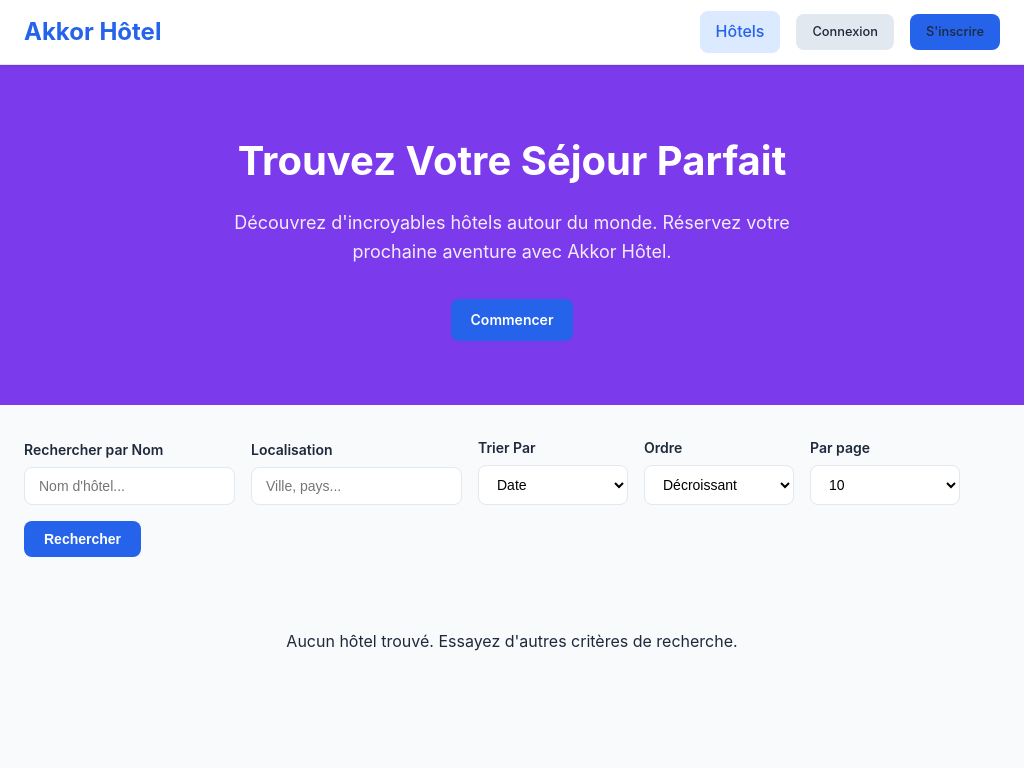
Test case: Flux d'inscription et de connexion utilisateur › devrait naviguer vers la page de connexion
Step 1. Click the link "Connexion" → point(846, 33), box [797,14,895,51]
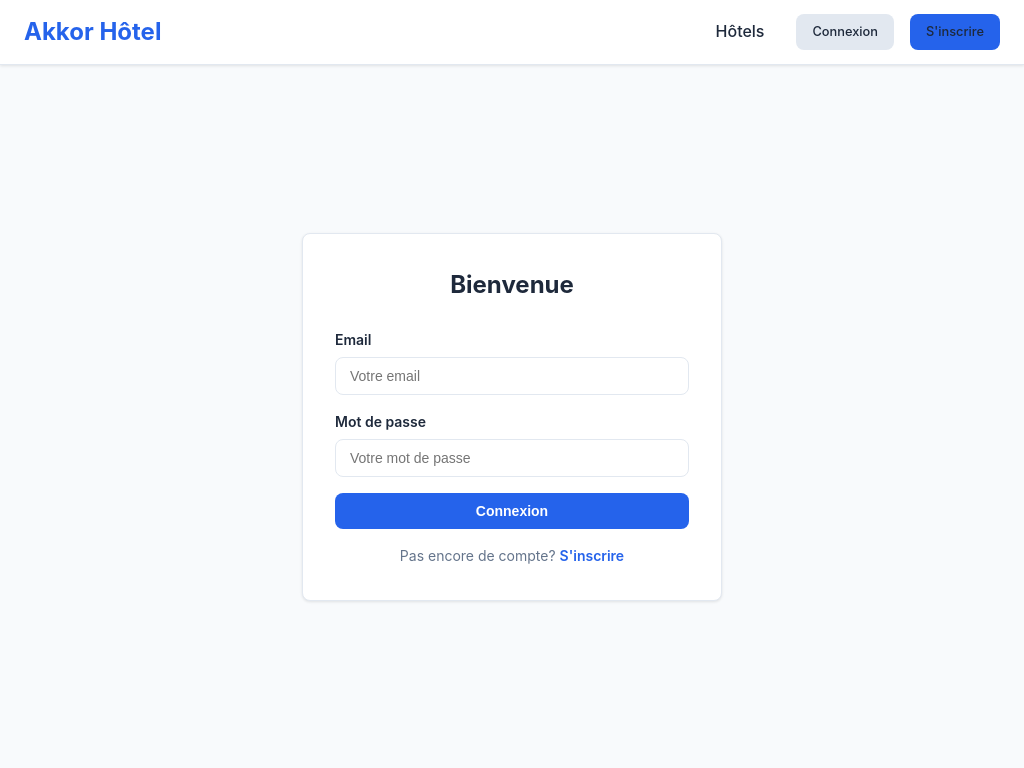
Expected: the heading "Bienvenue" is shown, [450,270,574,299]
